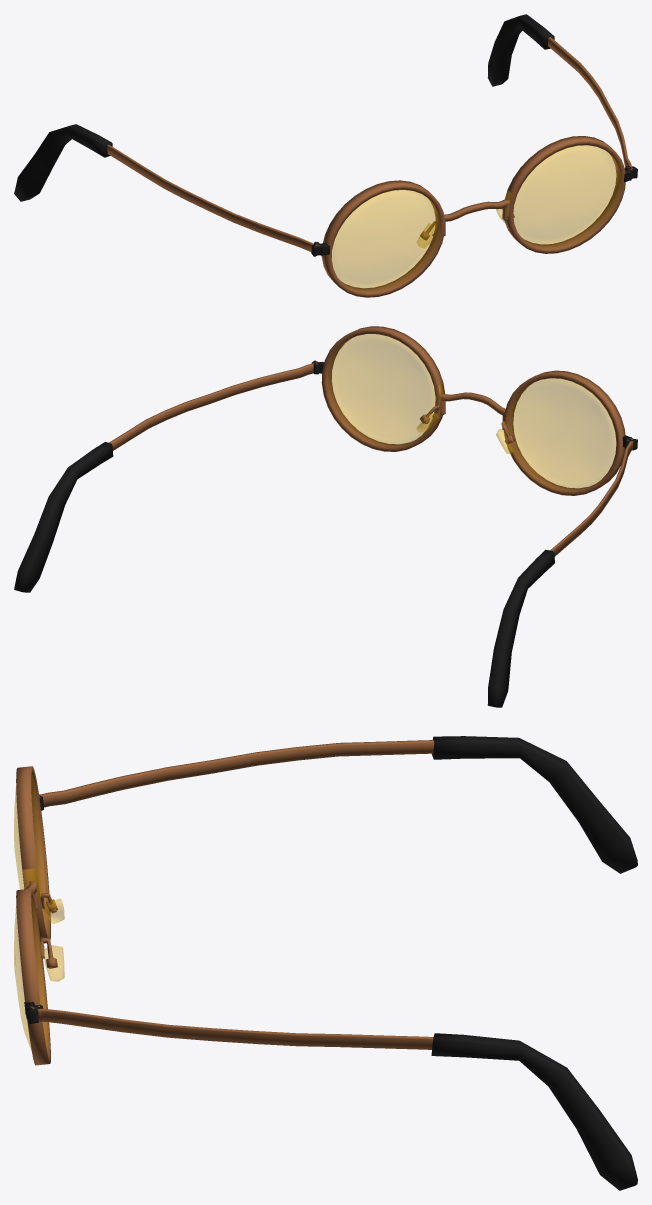
The model's file is round_sunglasses.glb.
3 renders of one model, top to bottom at view 1: azimuth 30°, elevation 25°; view 2: azimuth 150°, elevation 25°; view 3: azimuth 270°, elevation 25°, orthographic. The views are drawn at different scales.
Visible parts, largest first — view 1: glasses_3; view 2: glasses_3; view 3: glasses_3.
Part boxes in pixels (<box>): glasses_3: <box>14,14,637,297</box>; glasses_3: <box>14,326,637,707</box>; glasses_3: <box>14,736,637,1190</box>.
Size of the model in its own units: 0.2547 by 0.0702 by 0.2066.
